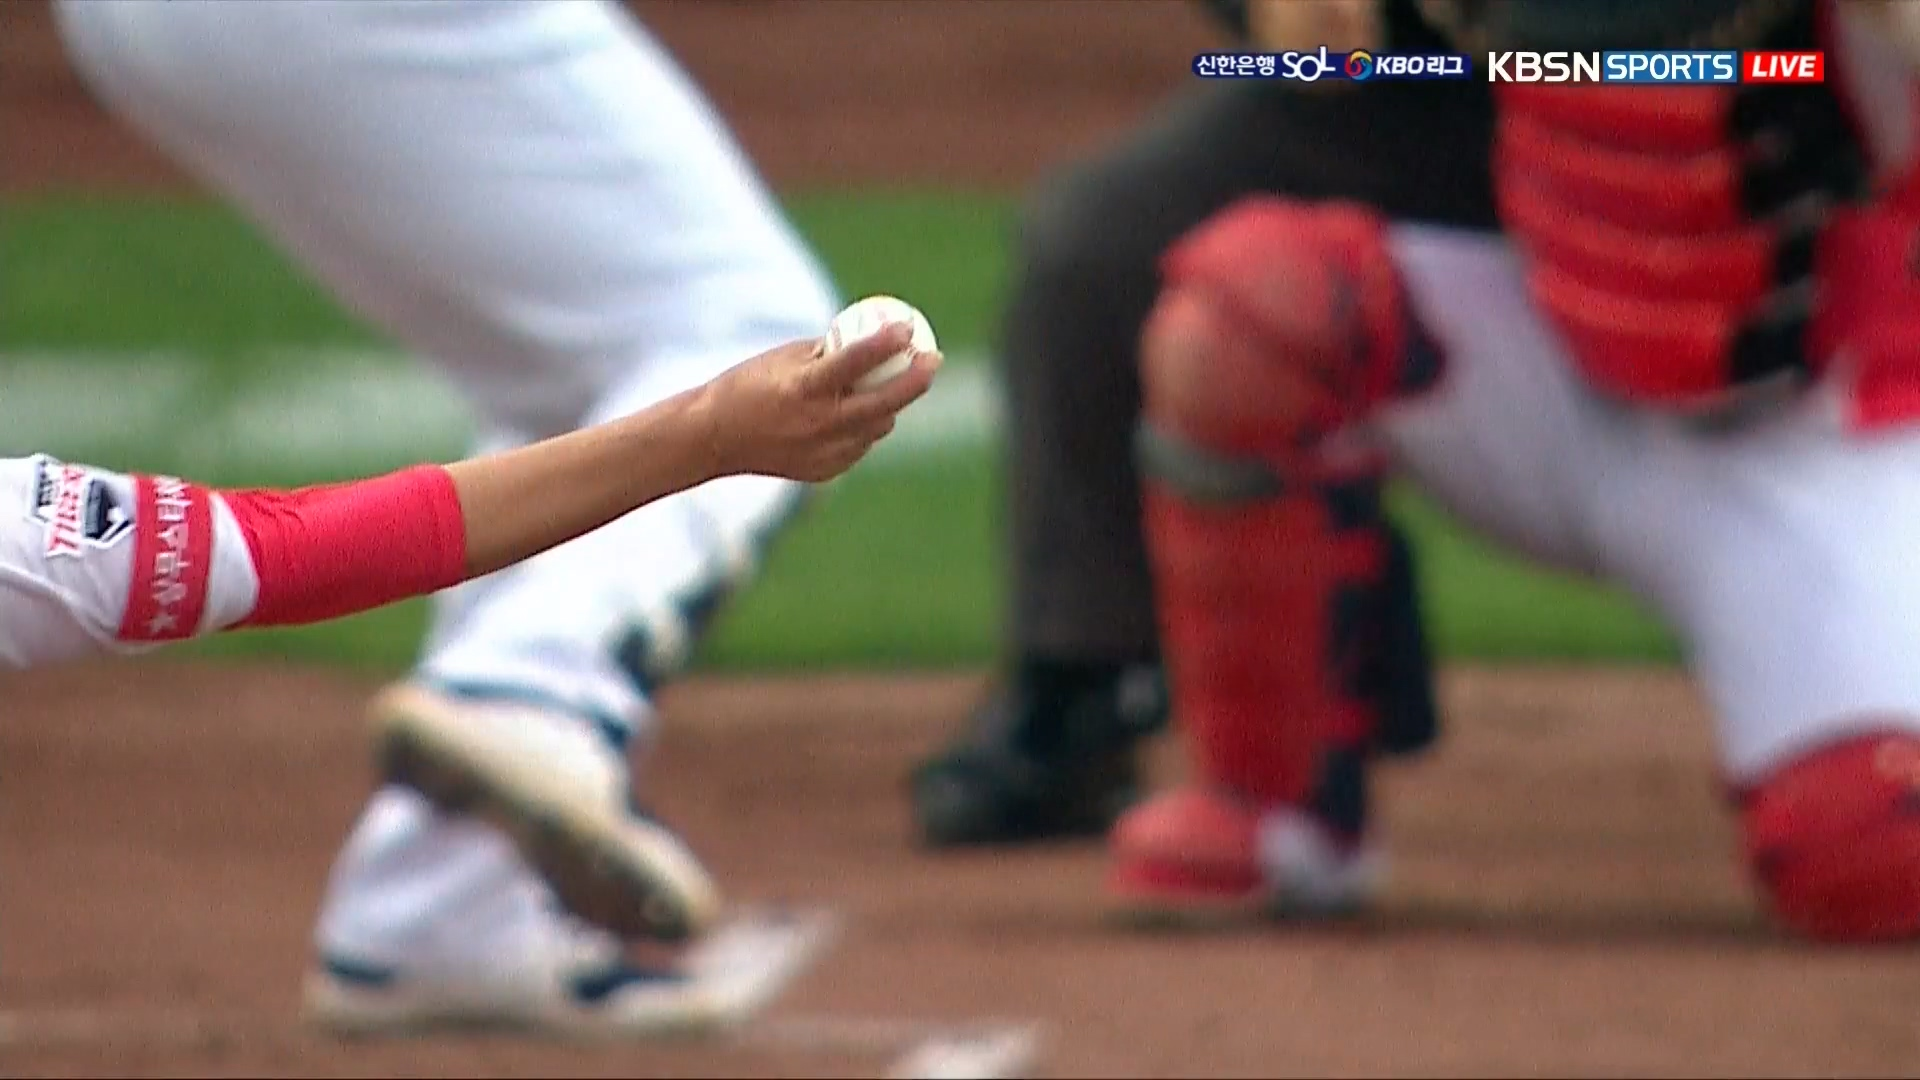zoomin_hand: (251, 287, 957, 640)
